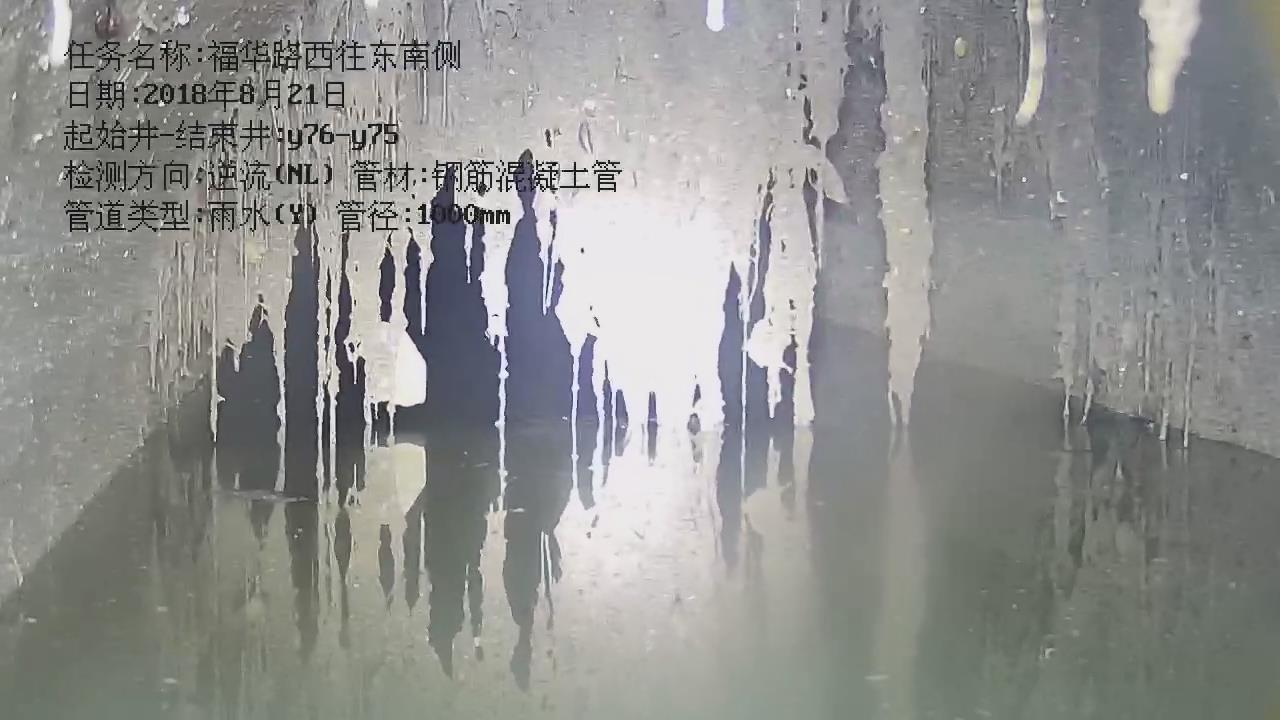SG: (56, 0, 1279, 453)
